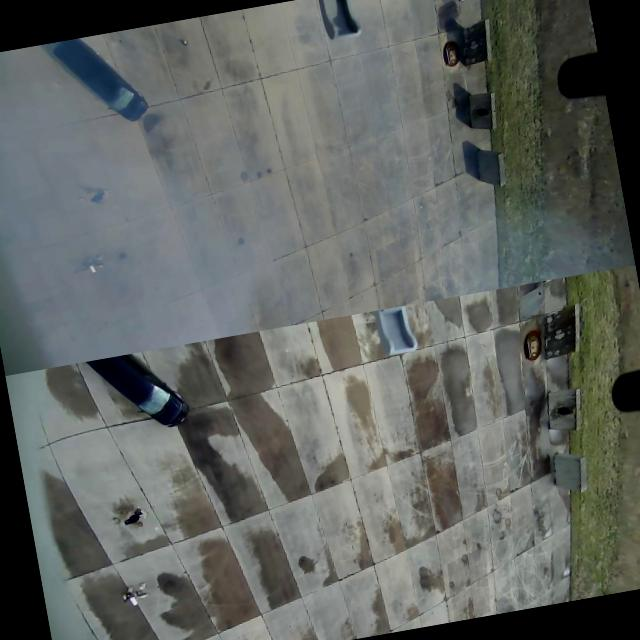car: (72, 337, 210, 453), (30, 26, 164, 142)
